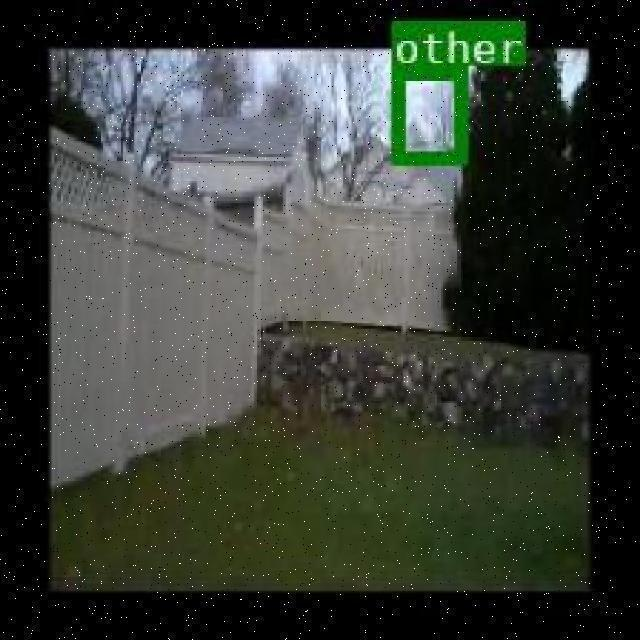Smoke: (390, 64, 466, 160)
